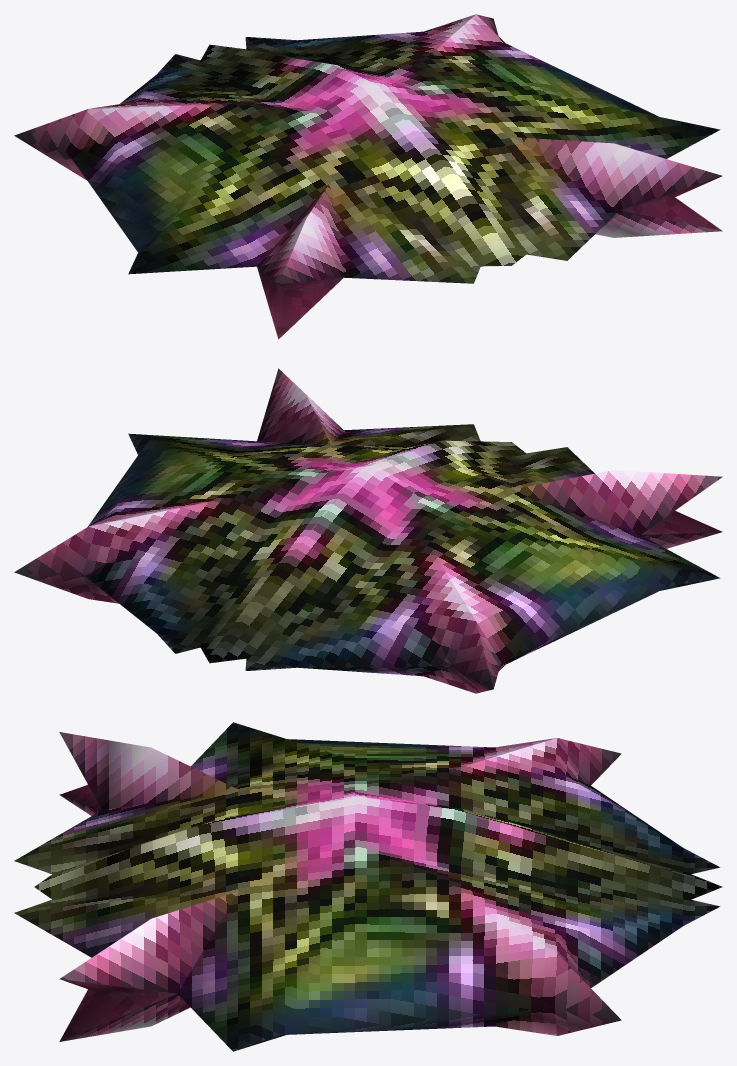
The model's file is strengamulet.glb.
3 views of the same model, one above another, from view 1: azimuth 30°, elevation 25°; view 2: azimuth 150°, elevation 25°; view 3: azimuth 270°, elevation 25° (orthographic). The views are drawn at different scales.
Parts seen in each view (by area): view 1: model_strengamulet; view 2: model_strengamulet; view 3: model_strengamulet.
Boxes of the visible parts, x1,y1,x2,y2 form: model_strengamulet: (14,14,722,339); model_strengamulet: (14,368,722,693); model_strengamulet: (14,722,722,1051).
Bounding box in the file's own units: 0.5453 × 0.1385 × 0.4959.
Materials: 1 (1 with a texture image).
